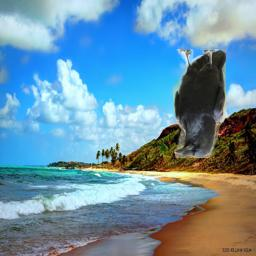Crow: (173, 49, 226, 158)
